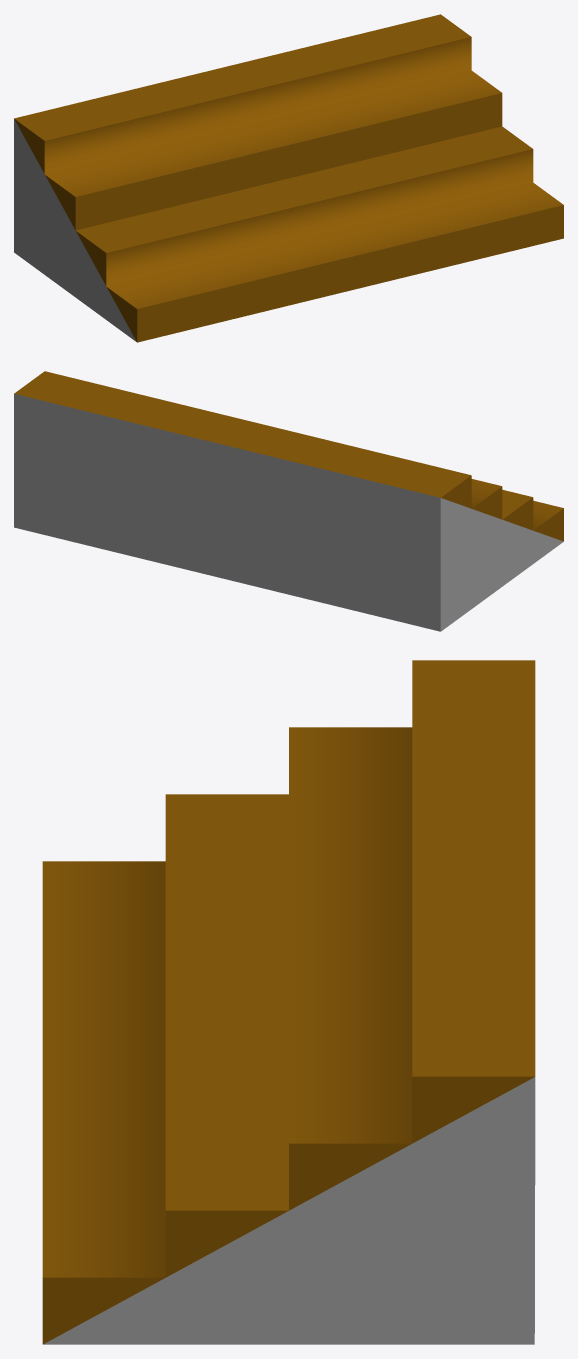
Rendered from Stair_Half_2x1.fbx.
3 renders of one model, top to bottom at view 1: azimuth 30°, elevation 25°; view 2: azimuth 150°, elevation 25°; view 3: azimuth 270°, elevation 25°, orthographic. The views are drawn at different scales.
Visible parts, largest first — view 1: Stair_Half_2x1; view 2: Stair_Half_2x1; view 3: Stair_Half_2x1.
Boxes of the visible parts, box(x1,y1,x2,y2) form: Stair_Half_2x1: box(14, 14, 563, 342); Stair_Half_2x1: box(14, 371, 563, 631); Stair_Half_2x1: box(42, 660, 535, 1344).
Bounding box in the file's own units: 2 × 0.6 × 1.
